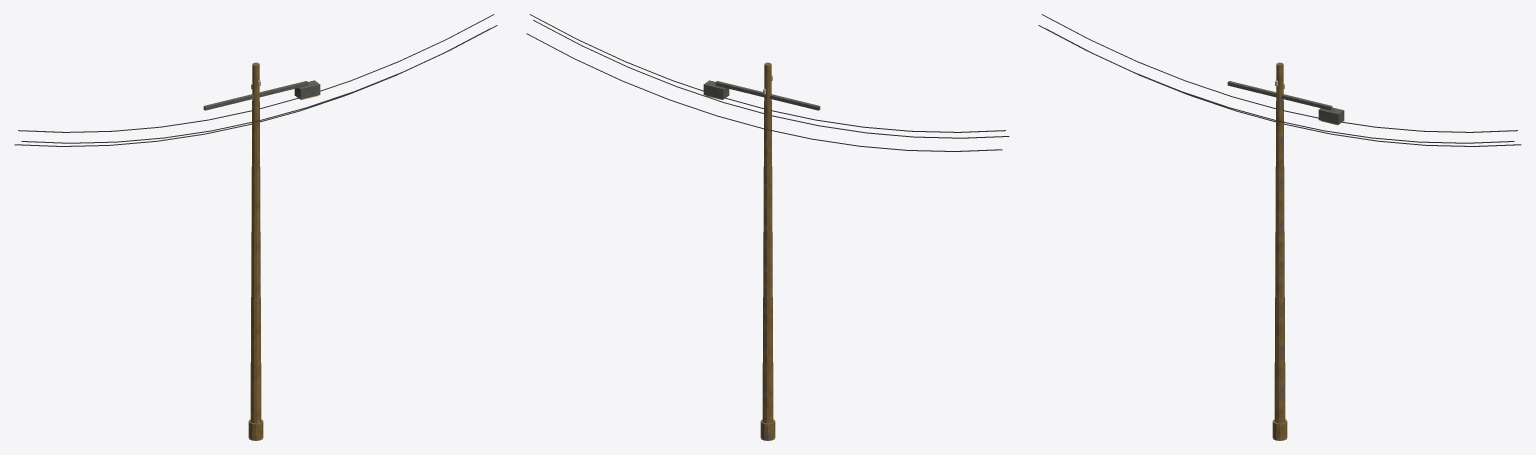
File: pole_wires.glb
3 renders of one model, left to right at view 1: azimuth 30°, elevation 25°; view 2: azimuth 150°, elevation 25°; view 3: azimuth 330°, elevation 25°, orthographic.
Visible parts, largest first — view 1: pole_wires; view 2: pole_wires; view 3: pole_wires.
Boxes of the visible parts, x1=… form: pole_wires: x1=14, y1=14, x2=497, y2=440; pole_wires: x1=526, y1=14, x2=1009, y2=440; pole_wires: x1=1038, y1=14, x2=1521, y2=440.
Bounding box in the file's own units: 12.01 × 9 × 0.3693.
5 materials, 2 textured.
